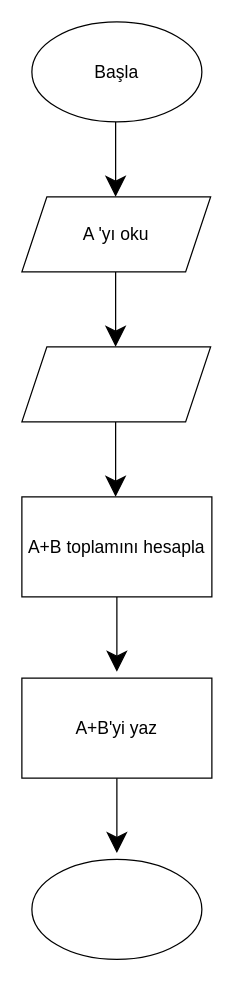
Some shapes in this 234 by 981 pixel diagram are drawn without their labels. The shapes that lost their labels are listed below. From the top down, each one's centre as x and y in pixels, then its label:
the point at 116,384: B'yi oku
the point at 116,908: Bitir
